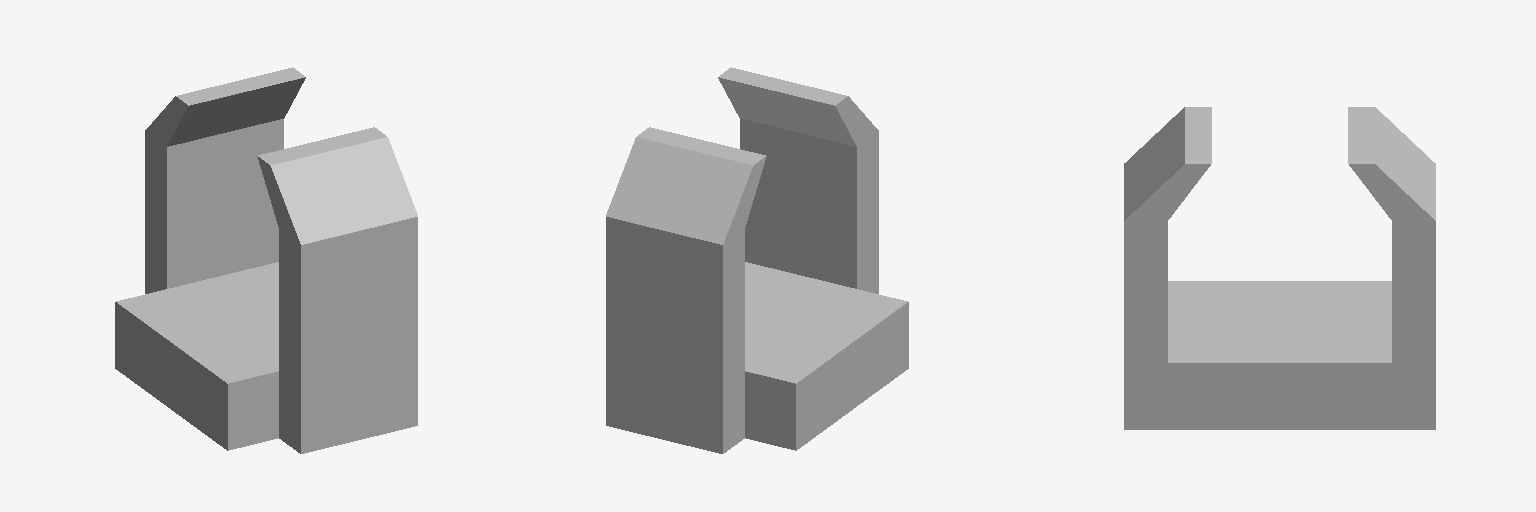
Rendered from Platform19.obj.
3 renders of one model, left to right at view 1: azimuth 30°, elevation 25°; view 2: azimuth 150°, elevation 25°; view 3: azimuth 270°, elevation 25°, orthographic.
Parts seen in each view (by area): view 1: Platform19; view 2: Platform19; view 3: Platform19.
Part boxes in pixels (x1,y1,x2,y2): Platform19: (115, 67, 417, 453); Platform19: (606, 67, 908, 453); Platform19: (1124, 107, 1435, 429).
Bounding box in the file's own units: 6.27 × 9.45 × 10.03.